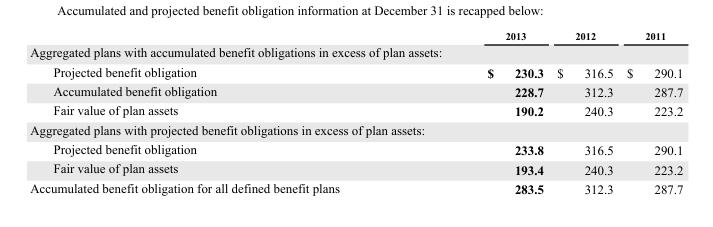table: (29, 29, 682, 195)
table column: (29, 29, 412, 195), (412, 29, 549, 195), (549, 29, 619, 195), (619, 29, 682, 195)
table column header: (29, 29, 682, 42)
table projected row header: (29, 42, 682, 61), (29, 120, 682, 139)
table row: (29, 61, 682, 81), (29, 100, 682, 120), (29, 139, 682, 159), (29, 42, 682, 61), (29, 81, 682, 100), (29, 120, 682, 139), (29, 159, 682, 178), (29, 178, 682, 195), (29, 29, 682, 42)
